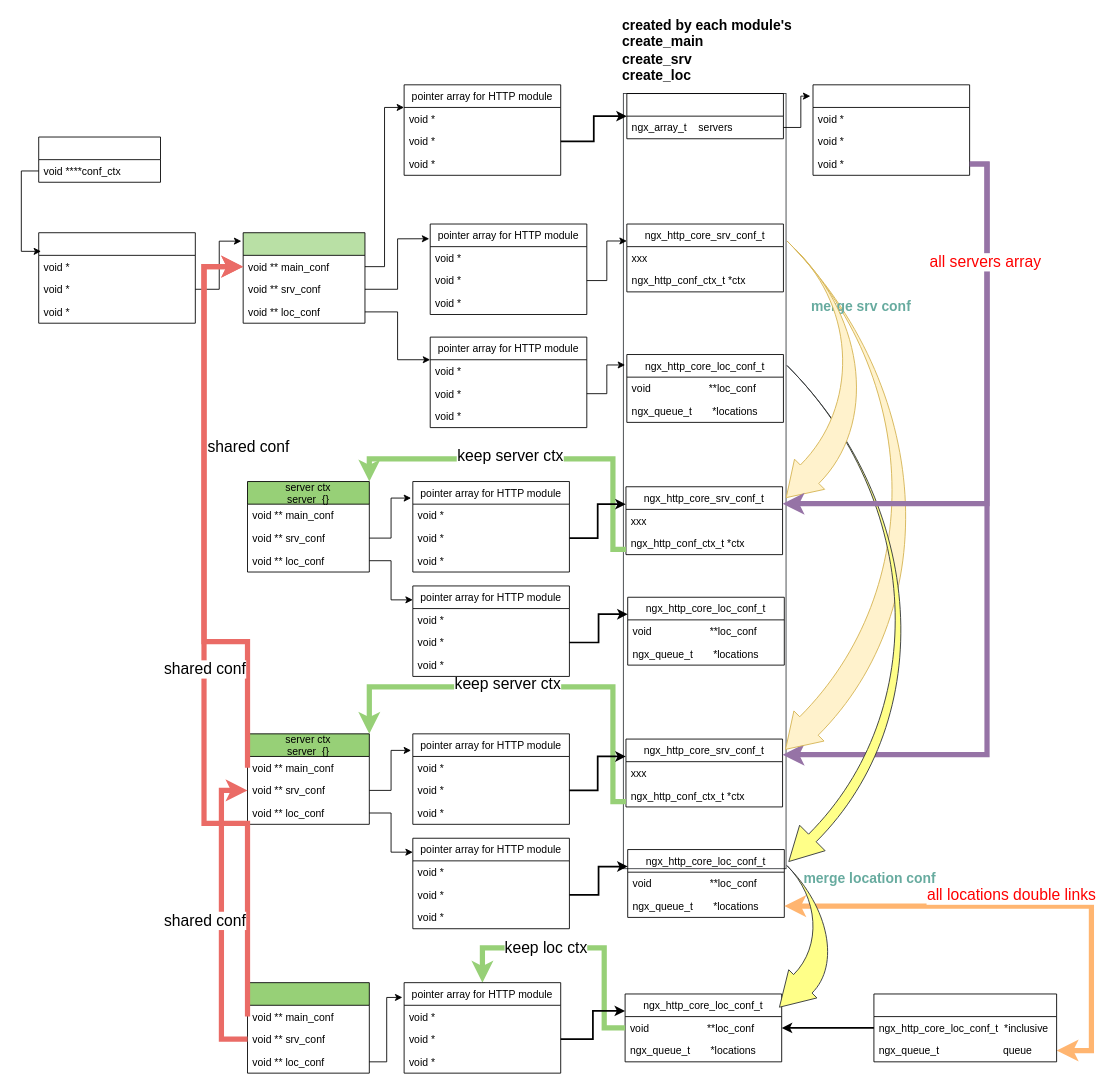
The diagram is 1117 pixels wide and 1090 high, and some of its shapes have lost their labels. Each missing label, with the box of its shape:
http core module ctx http block {}: (242, 232, 365, 323)
location ctx locatioin /sd {}: (247, 982, 369, 1073)
ngx_cycle_t: (38, 136, 161, 182)
ngx_http_core_main_conf_t: (626, 93, 783, 139)
ngx_http_location_queue_t: (873, 993, 1057, 1062)
pointer array for CORE module: (38, 232, 195, 323)
pointer array for http server: (812, 84, 970, 175)
